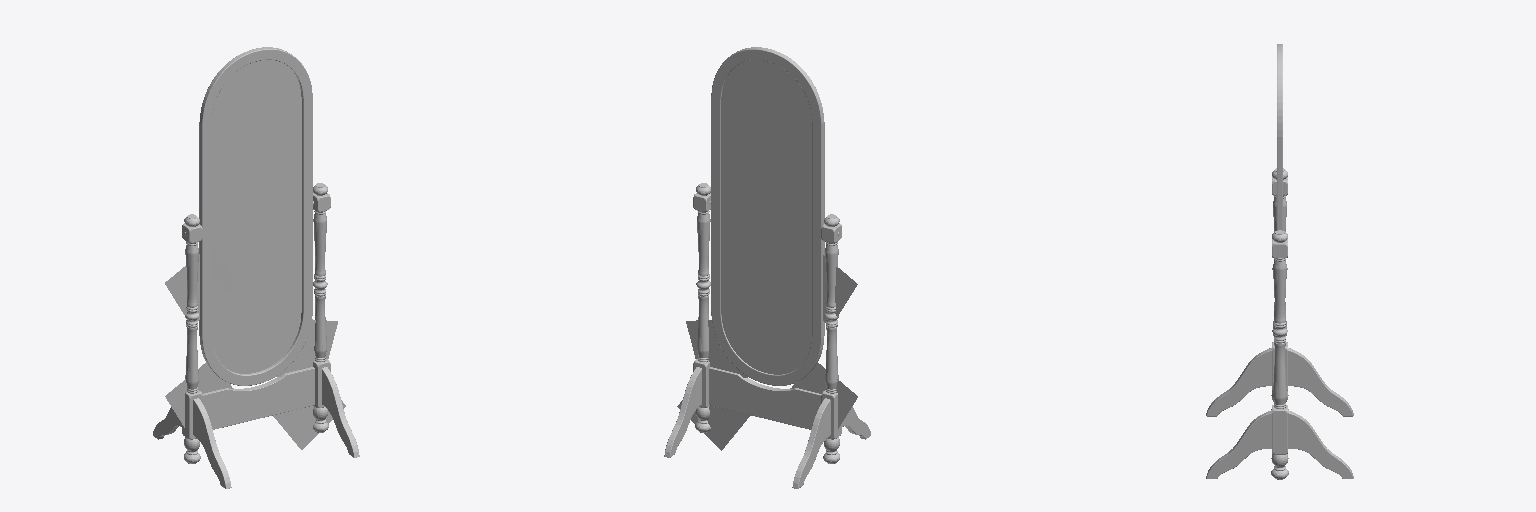
The model's file is antique_standing_mirror.obj.
3 renders of one model, left to right at view 1: azimuth 30°, elevation 25°; view 2: azimuth 150°, elevation 25°; view 3: azimuth 270°, elevation 25°, orthographic.
Visible parts, largest first — view 1: antique_standing_mirror; view 2: antique_standing_mirror; view 3: antique_standing_mirror.
Part boxes in pixels (bbox=[...]): antique_standing_mirror: bbox=[153, 47, 359, 488]; antique_standing_mirror: bbox=[664, 47, 870, 488]; antique_standing_mirror: bbox=[1206, 44, 1353, 479].
Size of the model in its own units: 0.8946 by 1.94 by 0.6275.